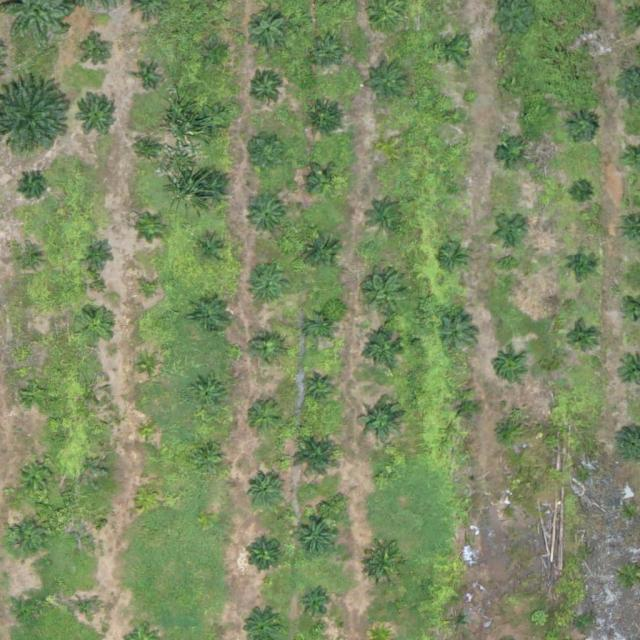Healthy: (290, 430, 345, 485), (201, 107, 232, 139), (309, 316, 332, 340)
Small: (358, 399, 405, 447), (242, 130, 289, 178), (292, 512, 339, 559), (74, 91, 121, 138), (247, 268, 287, 308), (438, 314, 478, 354), (365, 544, 405, 584), (193, 170, 233, 210), (368, 63, 408, 103), (244, 398, 284, 437), (245, 535, 284, 575), (303, 233, 342, 273), (371, 199, 410, 239), (6, 517, 45, 557), (193, 295, 232, 335), (190, 377, 230, 416), (305, 98, 345, 137), (247, 196, 286, 235), (246, 471, 285, 510), (366, 332, 405, 371), (367, 276, 406, 315), (17, 457, 56, 496), (247, 10, 286, 49), (77, 307, 116, 346), (302, 373, 333, 405), (566, 322, 597, 354), (196, 236, 227, 268), (83, 39, 114, 71), (436, 32, 467, 64), (566, 111, 597, 143), (452, 393, 483, 425), (491, 415, 522, 447), (71, 594, 102, 626), (16, 593, 47, 625), (252, 335, 283, 366), (297, 591, 328, 622), (567, 250, 598, 281), (497, 215, 528, 246), (310, 166, 341, 197), (439, 242, 470, 273), (494, 351, 525, 382), (193, 440, 224, 471), (252, 74, 283, 105), (311, 37, 342, 68), (498, 140, 529, 171), (84, 239, 115, 270), (21, 380, 52, 411), (142, 217, 166, 241), (22, 172, 46, 196), (503, 75, 527, 99), (205, 40, 229, 64), (138, 280, 162, 304), (137, 354, 161, 378), (138, 421, 162, 445), (135, 484, 159, 508), (449, 610, 472, 634), (18, 249, 41, 273), (26, 330, 49, 354), (78, 516, 101, 540), (137, 68, 160, 91), (139, 137, 162, 160), (447, 180, 463, 196), (375, 471, 391, 487), (447, 108, 463, 123), (500, 504, 515, 520), (580, 33, 595, 48), (573, 185, 588, 200), (382, 142, 397, 157)
